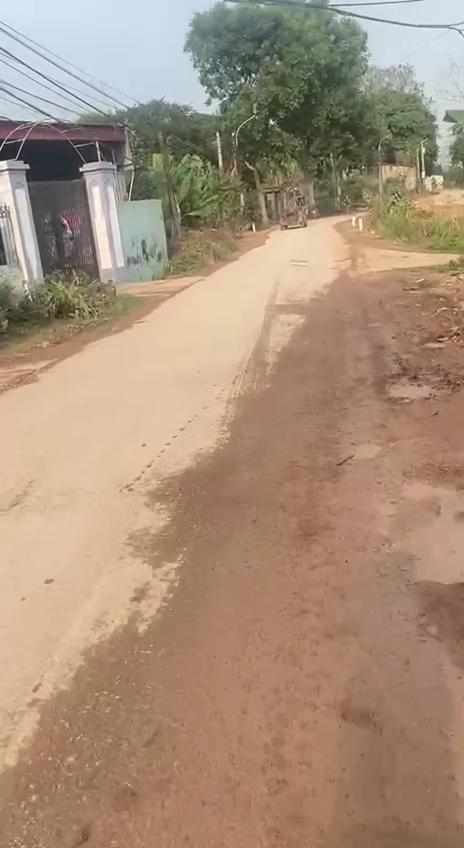pothole: (398, 480, 464, 584)
